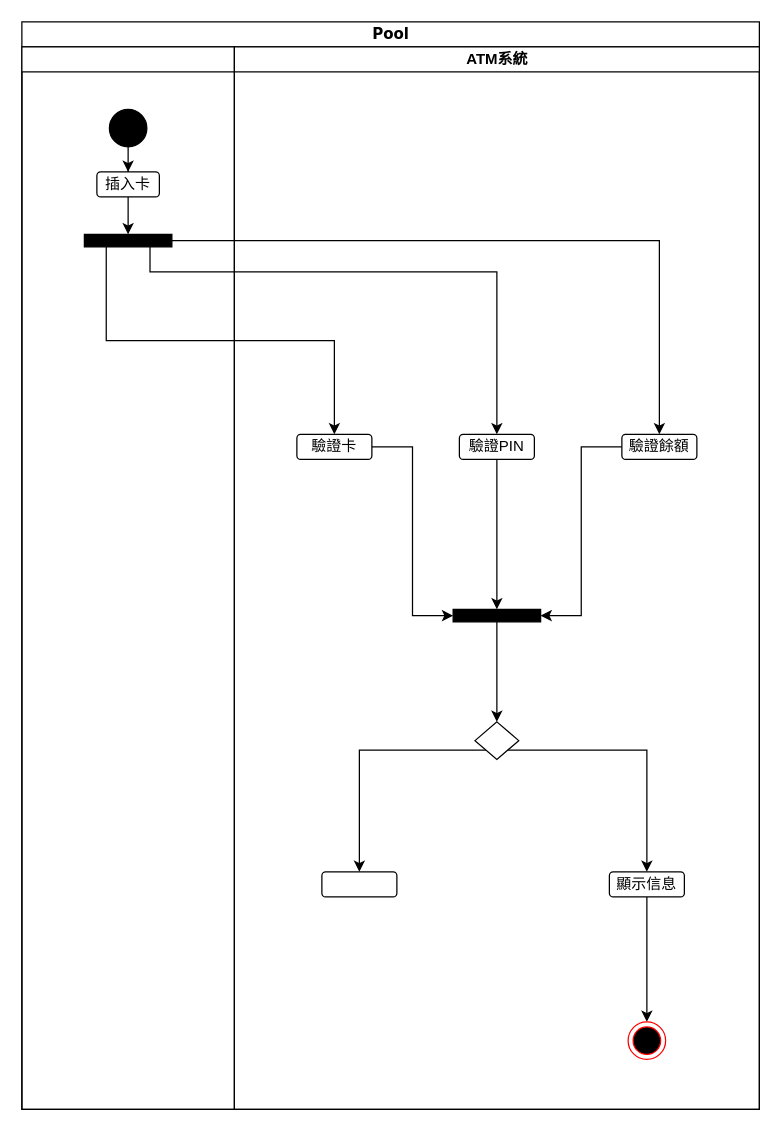
The diagram is 781 pixels wide and 1131 high, and some of its shapes have lost their labels. Each missing label, with the box of its shape:
客戶: (21, 46, 234, 1109)
詢問要求: (321, 871, 397, 897)
